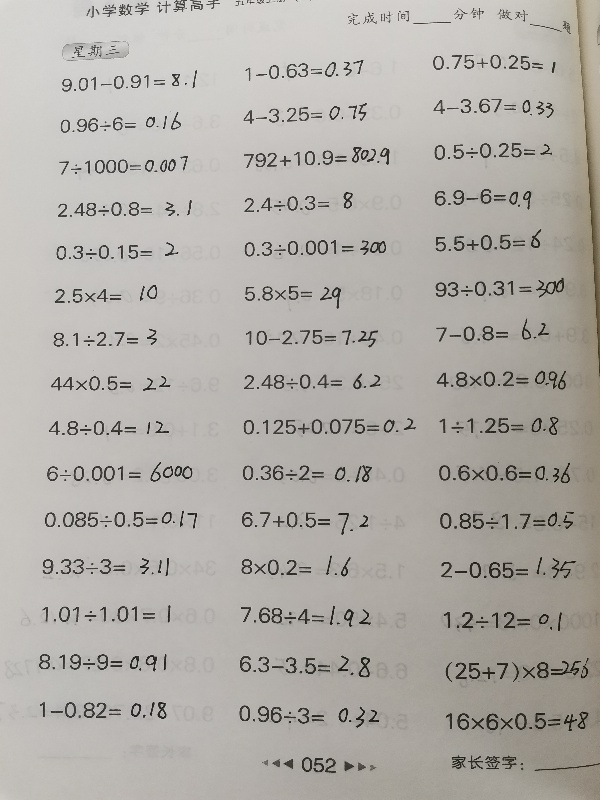equation: (238, 408, 419, 440), (441, 656, 592, 686), (235, 702, 385, 731), (441, 708, 600, 735), (43, 459, 197, 486), (240, 143, 393, 170), (235, 650, 374, 679), (434, 457, 573, 486), (237, 508, 371, 538), (438, 554, 580, 582), (41, 508, 201, 532), (237, 601, 374, 629), (431, 275, 567, 303), (432, 365, 569, 392), (241, 324, 381, 350), (237, 551, 358, 581), (240, 235, 390, 259), (436, 508, 578, 533), (58, 68, 200, 93), (35, 650, 171, 676), (431, 315, 552, 344), (239, 462, 376, 487), (37, 698, 171, 723), (240, 370, 384, 393), (240, 189, 358, 217), (54, 154, 191, 178), (437, 413, 563, 439), (239, 101, 370, 126), (428, 50, 559, 75), (440, 607, 565, 633), (54, 197, 195, 220), (40, 602, 175, 626), (56, 110, 184, 135), (429, 94, 557, 119), (39, 555, 178, 578), (51, 280, 161, 308), (430, 138, 555, 162), (241, 58, 366, 82), (241, 281, 344, 310), (52, 240, 181, 263), (431, 228, 545, 254), (46, 417, 173, 440), (48, 372, 174, 395), (430, 184, 534, 211), (49, 326, 160, 350)
